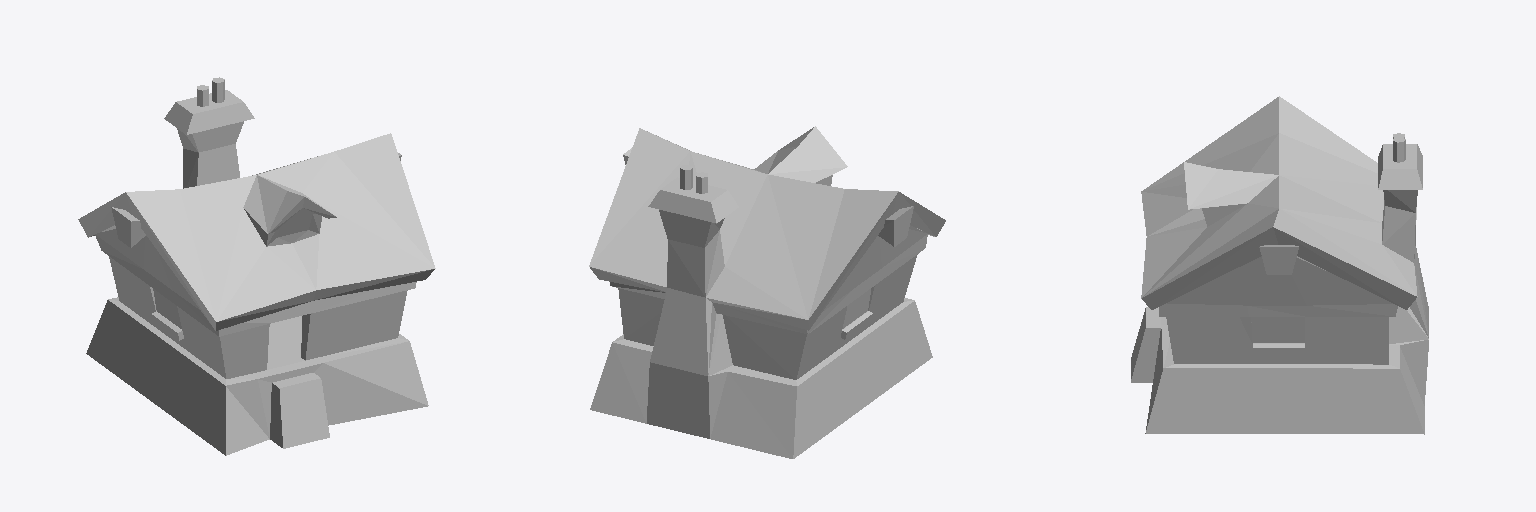
The model's file is farm_set3.obj.
3 renders of one model, left to right at view 1: azimuth 30°, elevation 25°; view 2: azimuth 150°, elevation 25°; view 3: azimuth 270°, elevation 25°, orthographic.
Visible parts, largest first — view 1: farm_set3; view 2: farm_set3; view 3: farm_set3.
Part boxes in pixels (left/top/right/bottom): farm_set3: left=78, top=77, right=435, bottom=455; farm_set3: left=589, top=126, right=945, bottom=458; farm_set3: left=1131, top=96, right=1428, bottom=434.
Bounding box in the file's own units: 18.87 × 16.88 × 18.02.